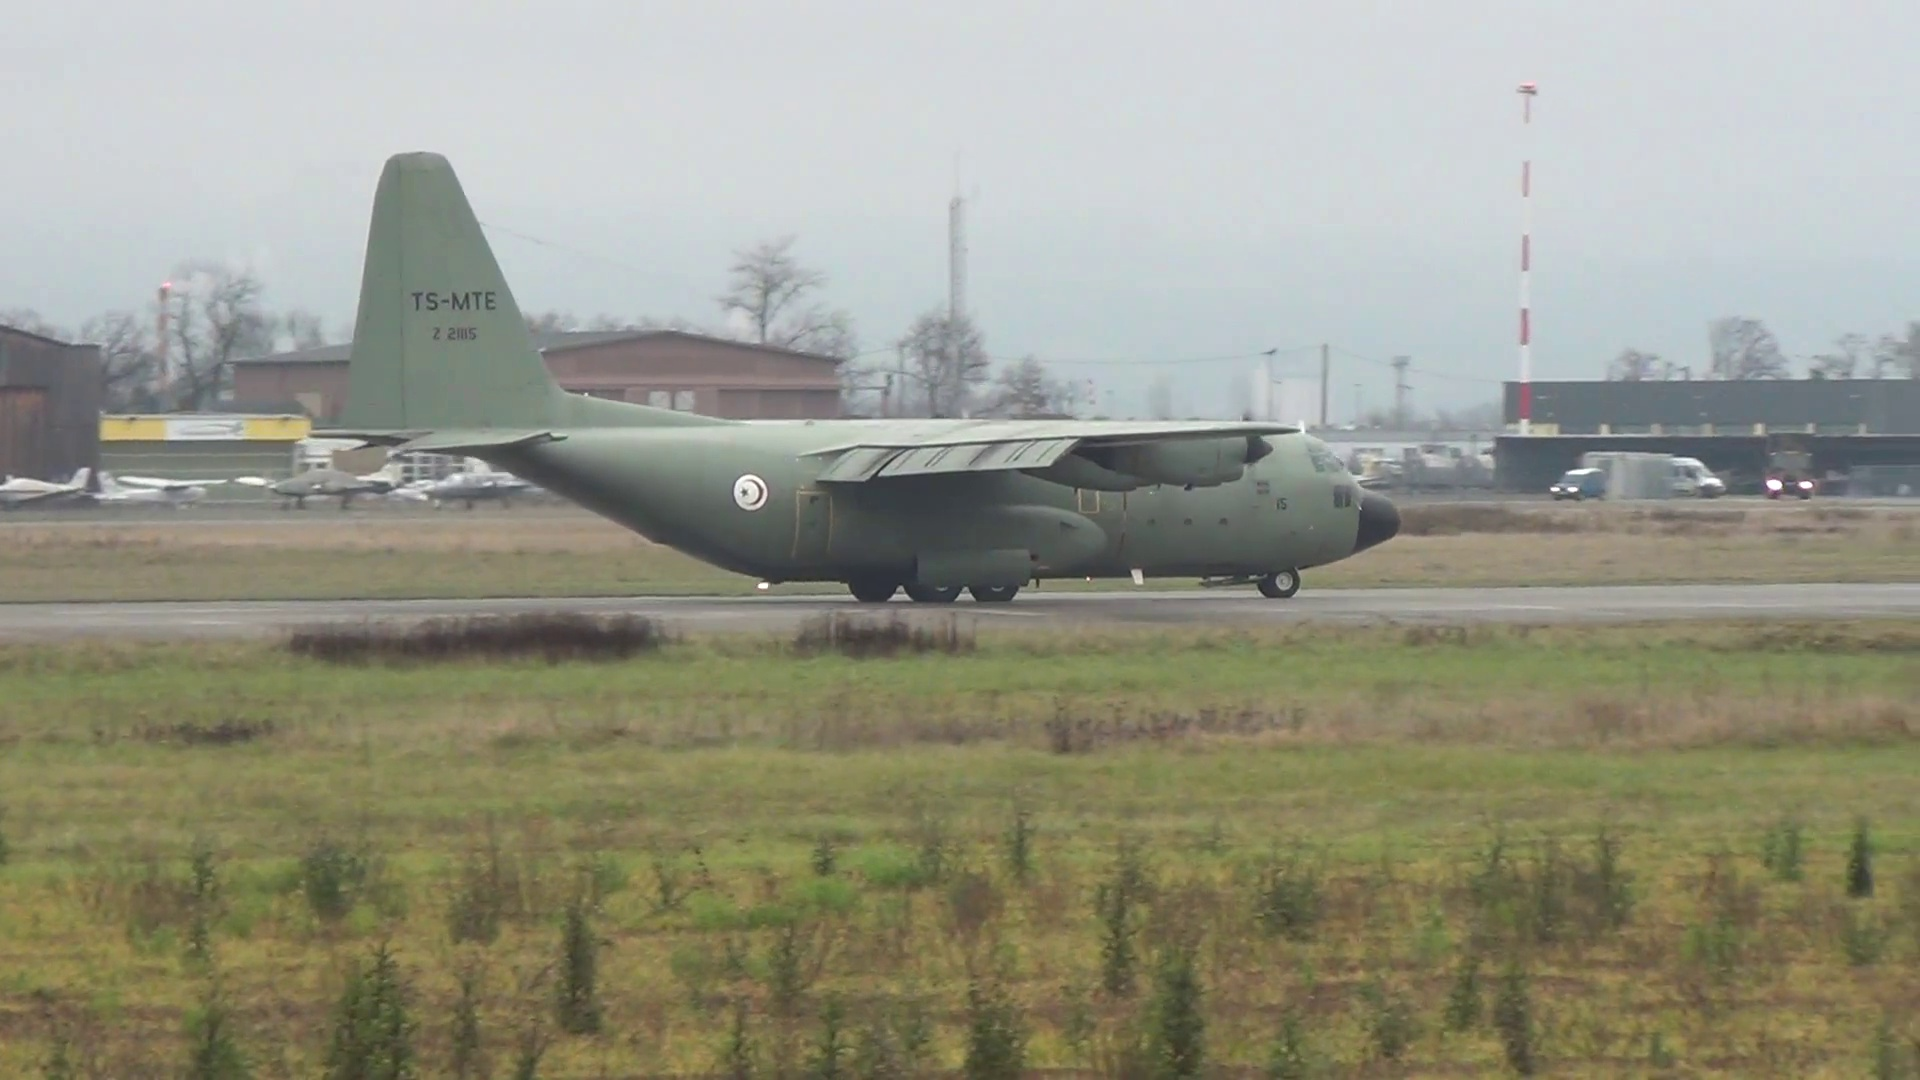Airplane: (320, 145, 1404, 605)
